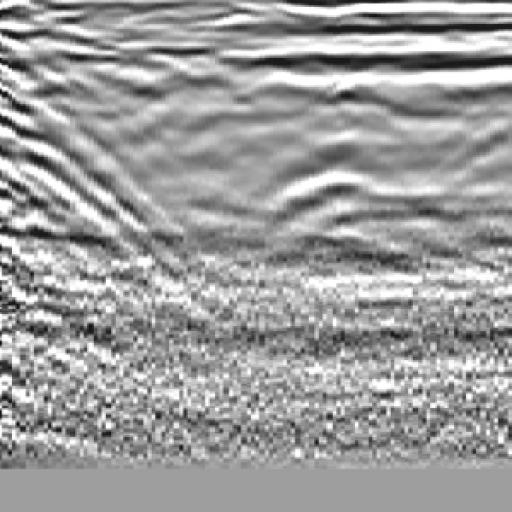metalic: (251, 39, 444, 281)
nonmetalic: (1, 47, 115, 284)
